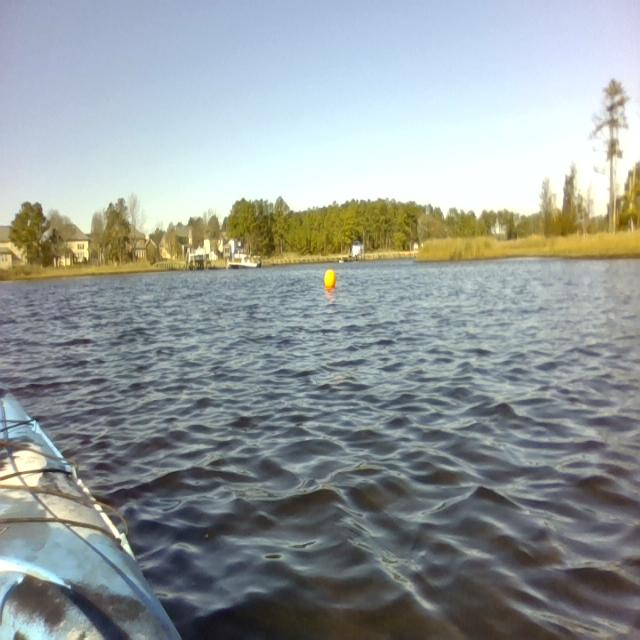Buoy: (322, 264, 338, 294)
